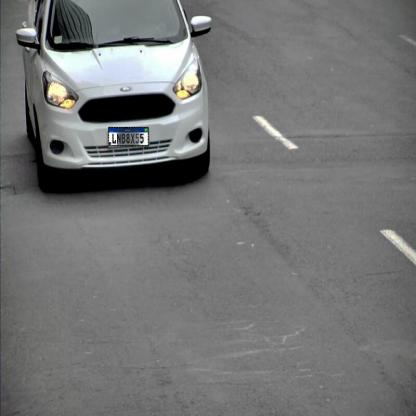PlacaM: (108, 127, 149, 146)
